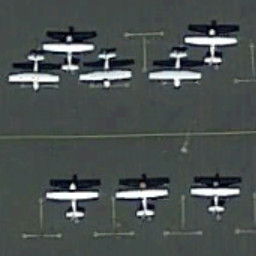Airplane: (78, 44, 142, 93), (2, 49, 62, 99), (39, 178, 104, 224), (111, 178, 173, 226), (38, 24, 94, 73), (184, 21, 240, 68), (188, 174, 246, 219), (148, 46, 204, 91)
